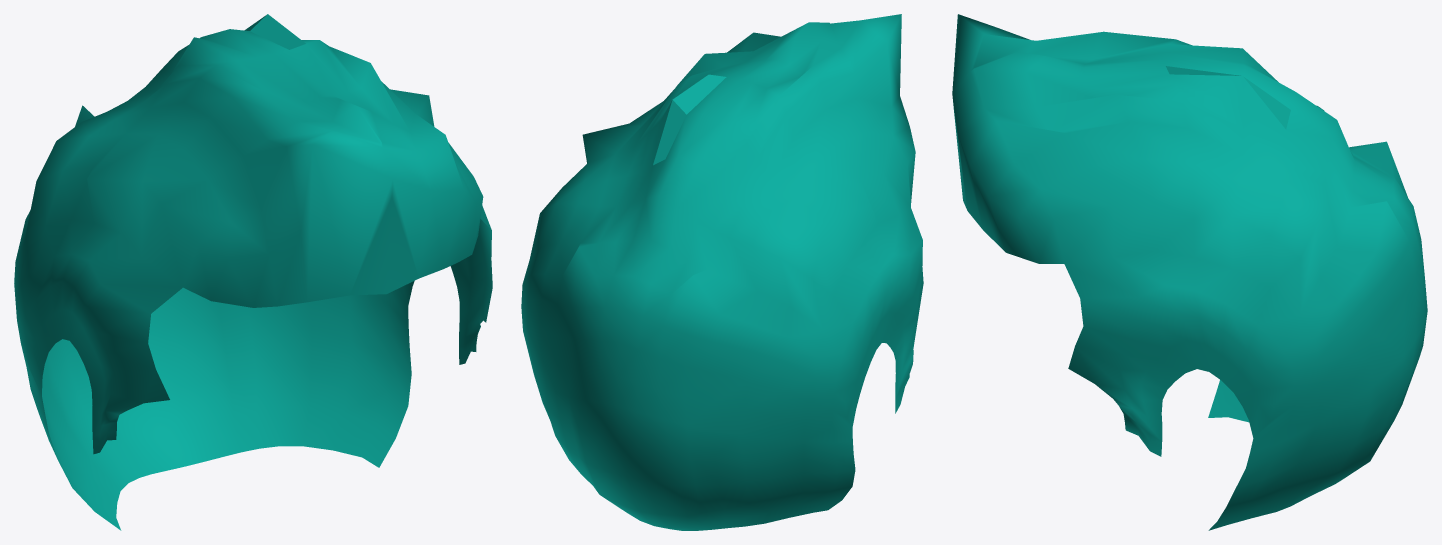
File: Cheveux Homme.fbx
3 renders of one model, left to right at view 1: azimuth 30°, elevation 25°; view 2: azimuth 150°, elevation 25°; view 3: azimuth 270°, elevation 25°, orthographic. The views are drawn at different scales.
Visible parts, largest first — view 1: Object007; view 2: Object007; view 3: Object007.
Boxes of the visible parts, x1=… form: Object007: x1=14, y1=14, x2=492, y2=530; Object007: x1=521, y1=14, x2=923, y2=530; Object007: x1=952, y1=14, x2=1427, y2=530.
Bounding box in the file's own units: 8.39 × 9.93 × 9.82.
